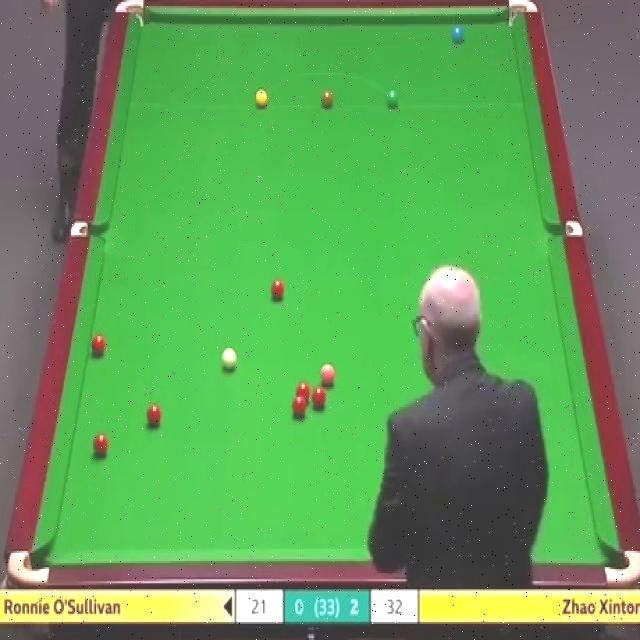blue-ball: (450, 20, 466, 45)
brown-ball: (321, 90, 334, 111)
green-ball: (386, 89, 400, 111)
pink-ball: (317, 363, 336, 388)
red-ball: (92, 432, 110, 459), (146, 405, 162, 431), (270, 277, 286, 302), (310, 386, 328, 408), (90, 333, 105, 358), (291, 396, 307, 419), (294, 382, 312, 402)
white-ball: (220, 346, 238, 376)
yellow-ball: (255, 88, 268, 110)
